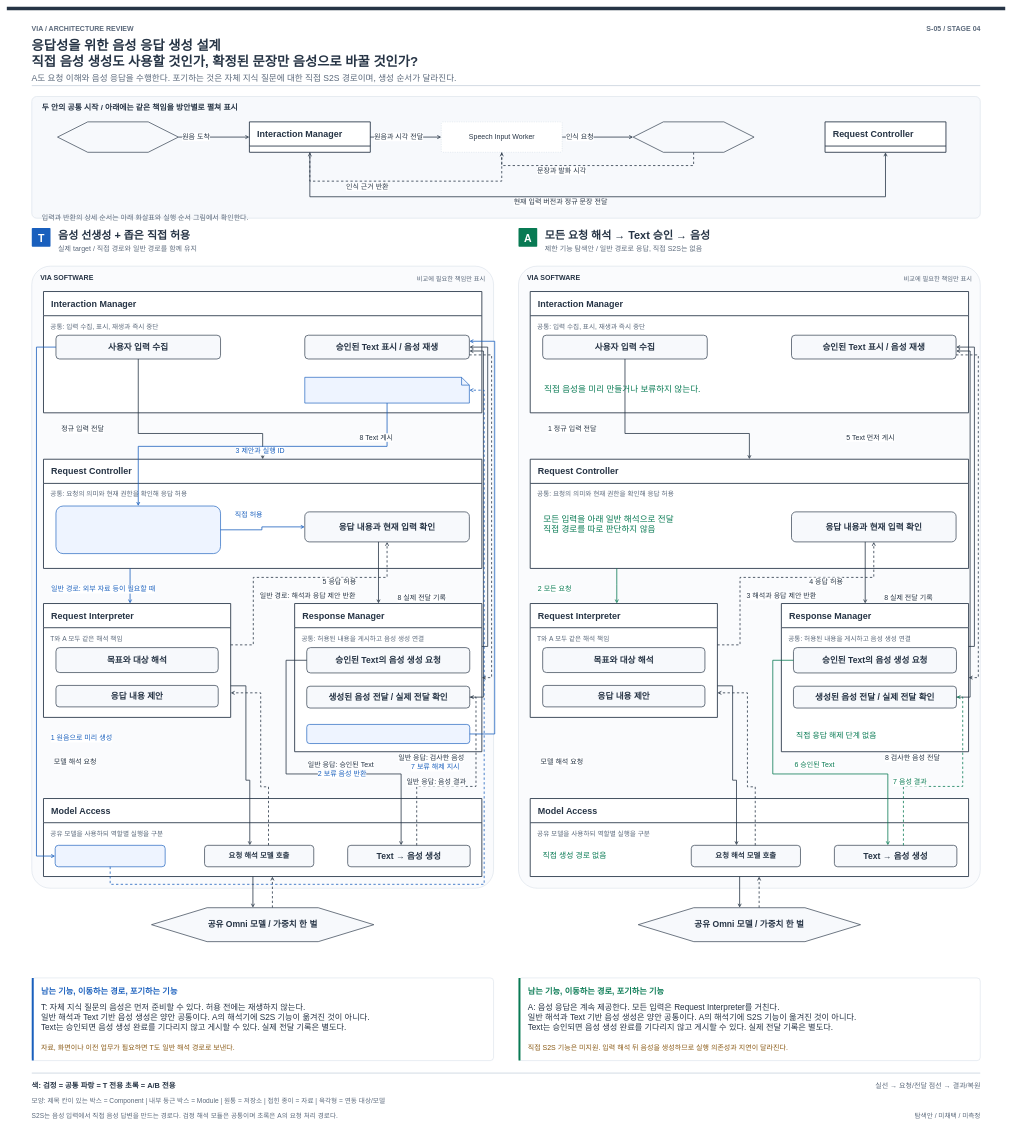
This 1012x1128 diagram has some shape labels left out. The shapes that lost their labels are listed below. From the top down, each one's centre as x and y in pixels, then its label:
the point at 118,136: 마이크 / 사용자 음성
the point at 693,136: Streaming ASR 모델
the point at 387,390: 미리 만든 음성 + 보류 실행 ID
the point at 138,530: 이번 발화의 일반 지식 질문인가? 맞으면 직접 허용 / 아니면 일반 해석
the point at 388,734: 6 허용된 응답과 보류 실행 ID 확인
the point at 110,856: 직접 음성 응답 생성
